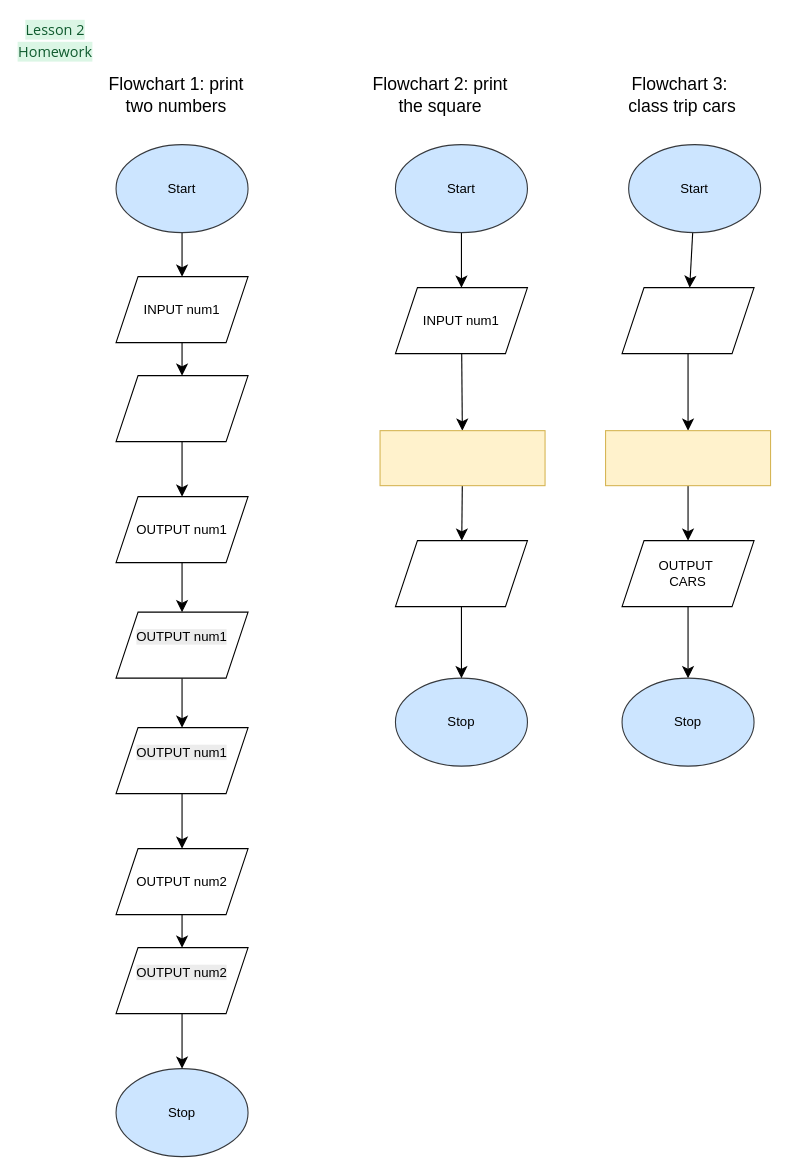
The diagram is 790 pixels wide and 1176 high, and some of its shapes have lost their labels. Each missing label, with the centre of its shape:
INPUT children: point (687, 320)
INPUT num2: point (181, 408)
OPERATION CARS= children/5: point (687, 458)
OPERATION RESULT=num*num: point (462, 458)
OUTPUT RESULT: point (460, 573)
